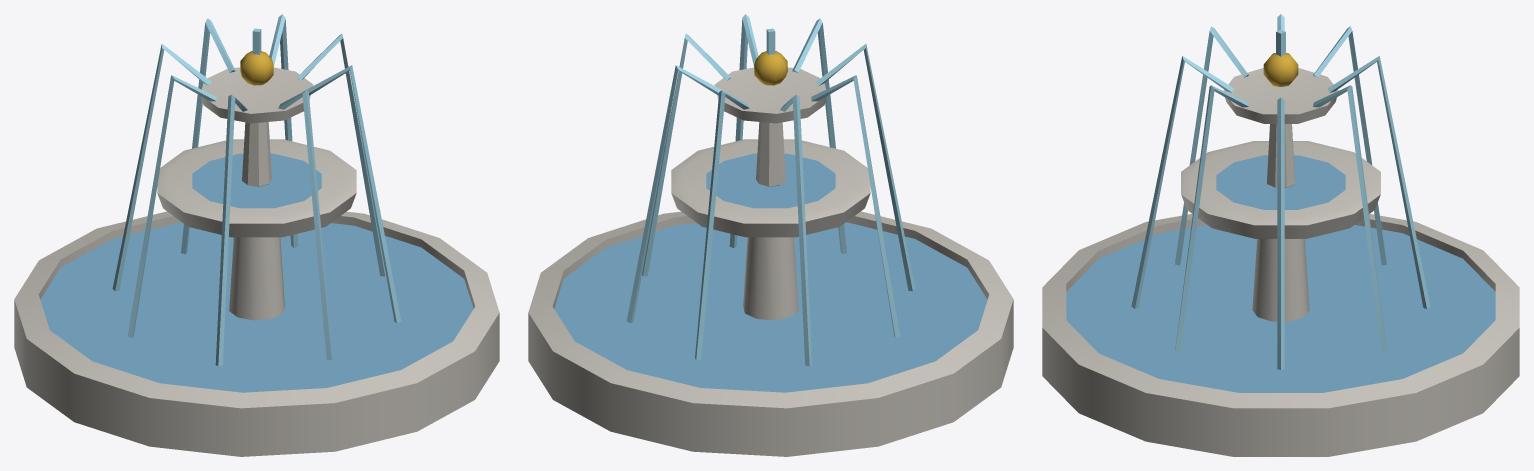
Rendered from 157_fontaine.fbx.
3 renders of one model, left to right at view 1: azimuth 30°, elevation 25°; view 2: azimuth 150°, elevation 25°; view 3: azimuth 270°, elevation 25°, orthographic.
Visible parts, largest first — view 1: Eau, Bassin, Fontaine; view 2: Eau, Bassin, Fontaine; view 3: Eau, Bassin, Fontaine.
Part boxes in pixels (box(x1,y1,x2,y2)): Eau: box(40, 14, 473, 392); Bassin: box(14, 211, 499, 456); Fontaine: box(157, 51, 356, 320); Eau: box(554, 14, 987, 392); Bassin: box(528, 211, 1013, 456); Fontaine: box(671, 51, 870, 320); Eau: box(1066, 14, 1495, 392); Bassin: box(1042, 214, 1519, 456); Fontaine: box(1181, 53, 1380, 321).
Bounding box in the file's own units: 2.24 × 1.68 × 2.24.
Materials: 1 (1 with a texture image).
